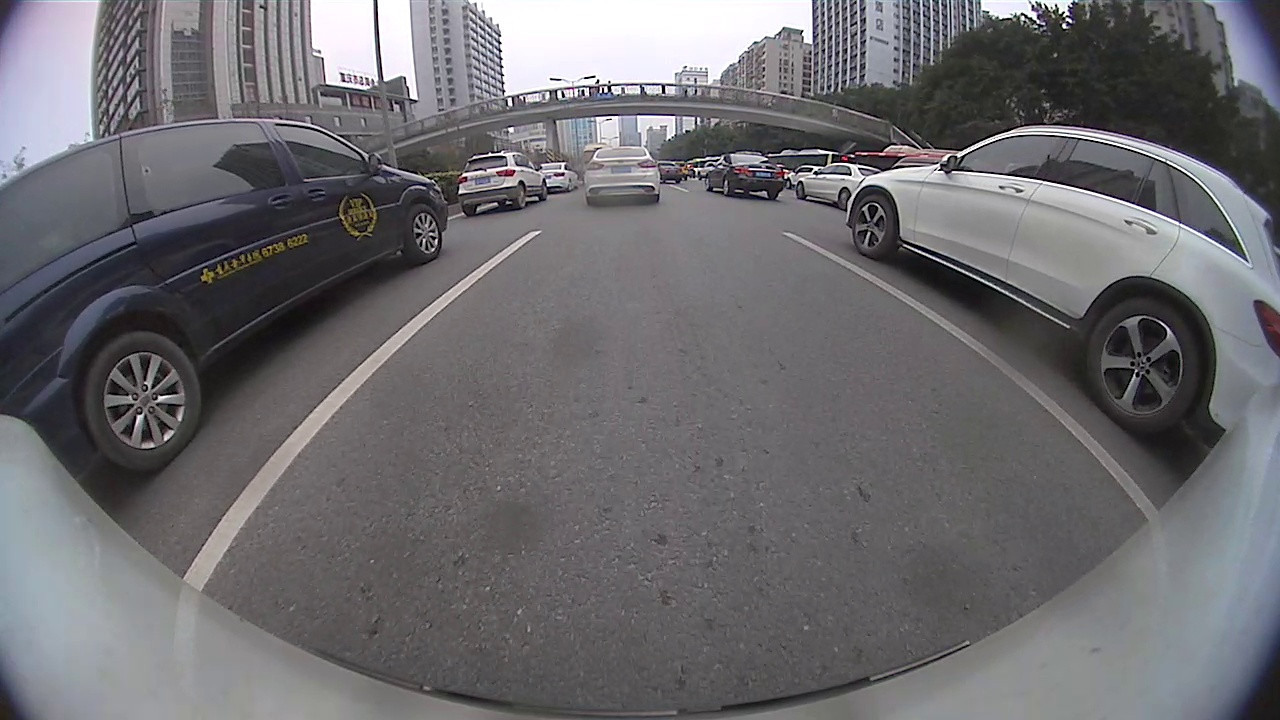car: (0, 119, 451, 472), (847, 122, 1279, 430), (456, 151, 548, 214), (797, 158, 884, 211), (585, 147, 662, 206), (707, 150, 786, 198)
front: (853, 196, 897, 260), (403, 201, 443, 263), (794, 179, 805, 199)
rear: (80, 328, 203, 469), (1085, 297, 1204, 432), (838, 190, 858, 213), (515, 184, 527, 210), (722, 176, 734, 197)
